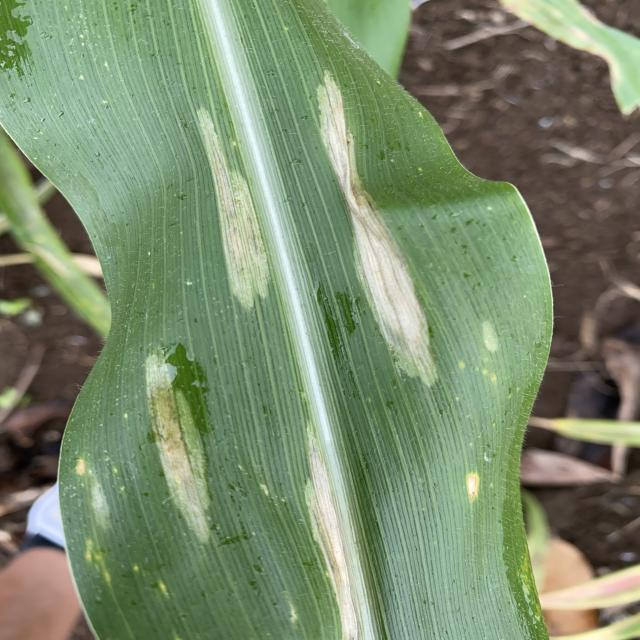Corn_Leaf_Blight: (53, 5, 546, 640)
